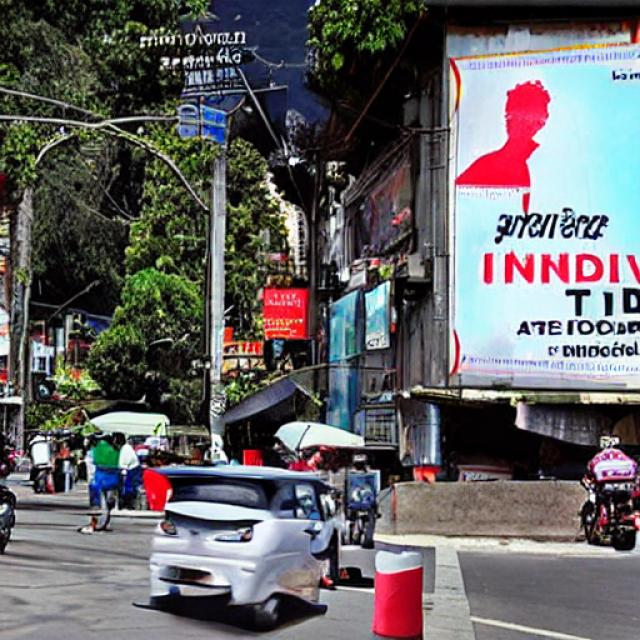Billboard: (444, 38, 640, 402)
